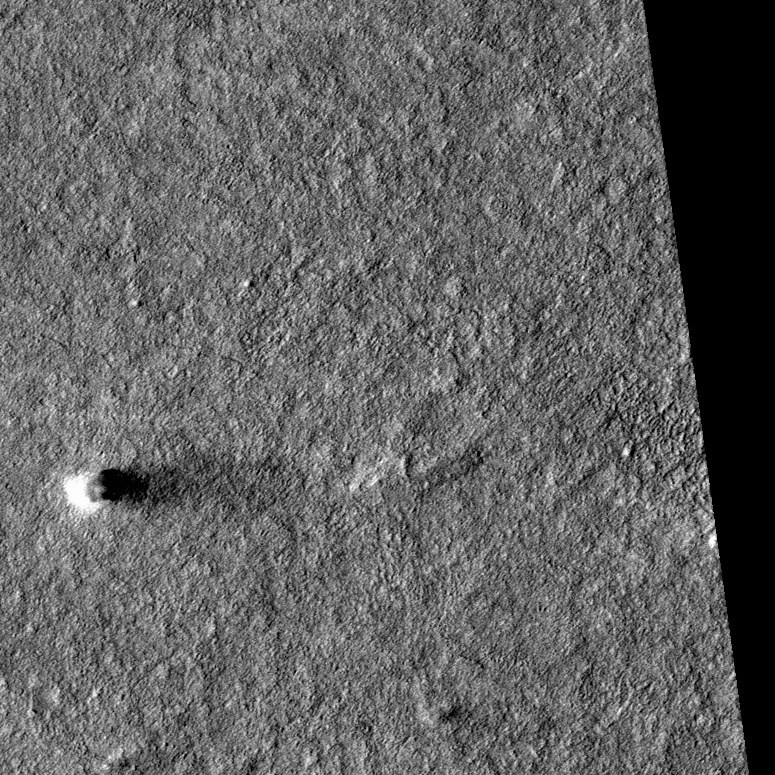dust_devil: (62, 455, 265, 516)
